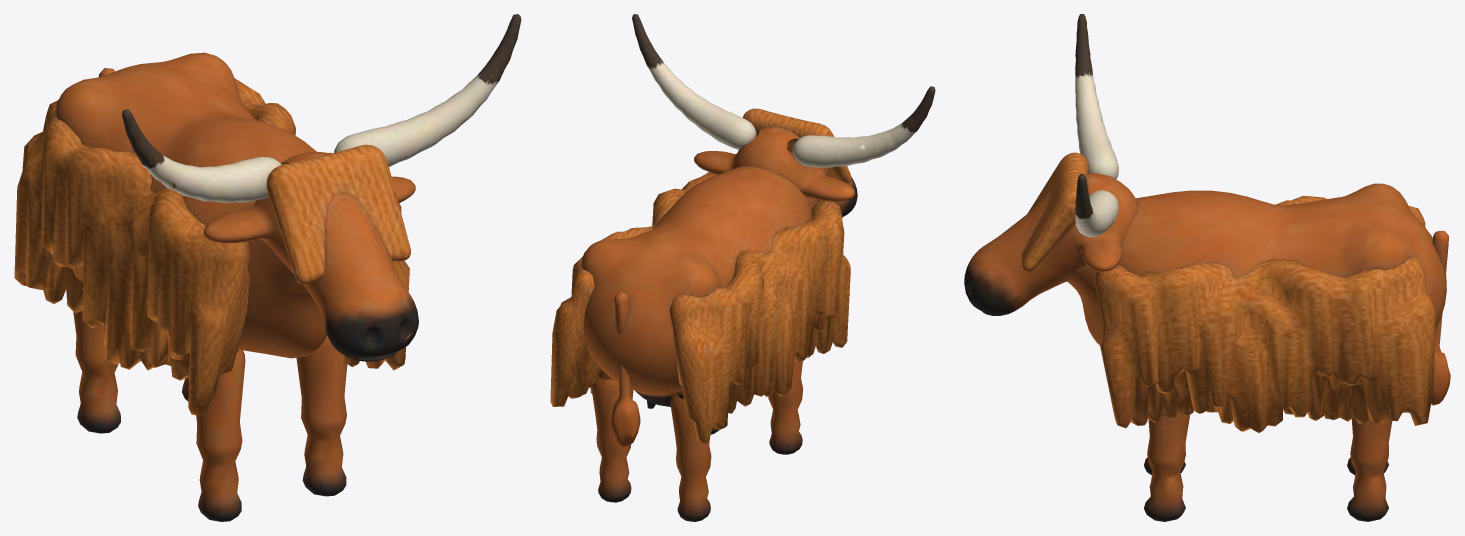
File: animal_highland_cow.glb
The picture shows the model from 3 angles, left to right: view 1: azimuth 30°, elevation 25°; view 2: azimuth 150°, elevation 25°; view 3: azimuth 270°, elevation 25°; orthographic projection. The views are drawn at different scales.
Parts seen in each view (by area): view 1: animal_highland_cow, head, leg1, leg0, leg2; view 2: animal_highland_cow, head, leg2, leg3, leg0, tail; view 3: animal_highland_cow, head, leg1, leg3, tail.
Part boxes in pixels (<box>): animal_highland_cow: <box>14,52,409,415</box>; head: <box>122,14,521,361</box>; leg1: <box>296,335,347,496</box>; leg0: <box>196,349,245,521</box>; leg2: <box>73,310,120,433</box>; animal_highland_cow: <box>550,150,850,444</box>; head: <box>632,14,935,217</box>; leg2: <box>670,393,711,521</box>; leg3: <box>591,376,633,502</box>; leg0: <box>768,360,803,454</box>; tail: <box>611,292,640,447</box>; animal_highland_cow: <box>1067,183,1446,433</box>; head: <box>964,14,1137,315</box>; leg1: <box>1144,411,1189,521</box>; leg3: <box>1347,417,1392,521</box>; tail: <box>1431,230,1450,405</box>.
Bounding box in the file's own units: 0.5701 × 0.6569 × 0.7183.
1 material, 1 textured.
